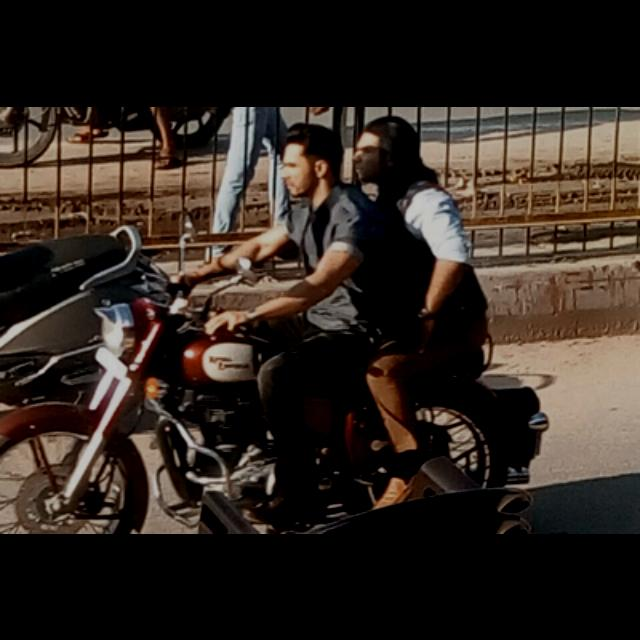Without Helmet: (276, 116, 344, 204)
